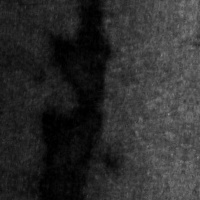patches: (37, 0, 120, 116), (26, 82, 108, 191)
